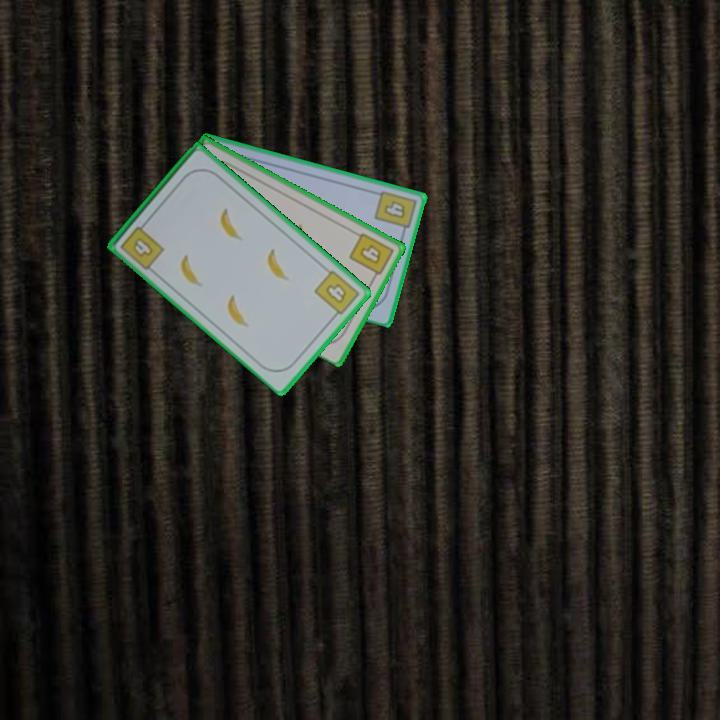4b: (311, 266, 363, 322), (345, 229, 397, 283), (117, 217, 167, 273), (371, 187, 419, 238)
